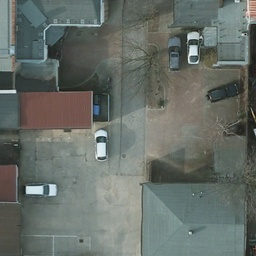car: (208, 76, 242, 105), (165, 39, 183, 73), (22, 181, 57, 197), (185, 31, 201, 64), (94, 129, 109, 162)
